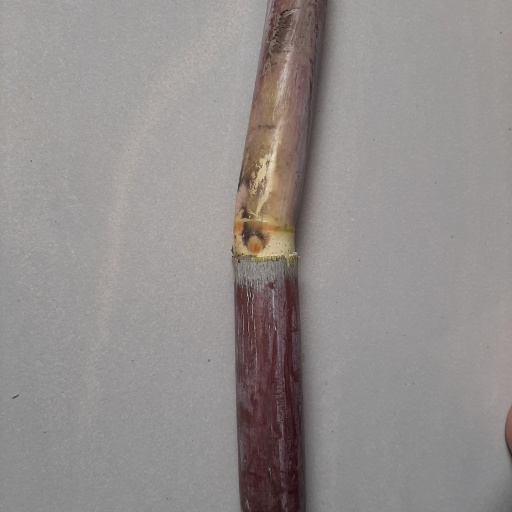Bud: (243, 233, 266, 255)
